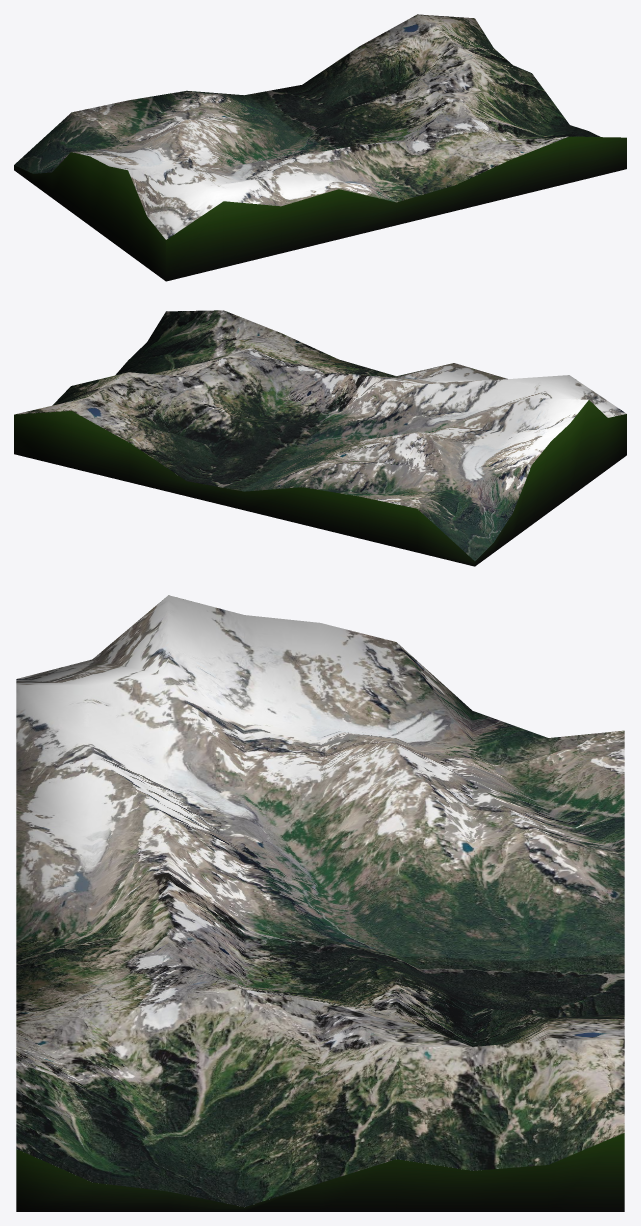
The model's file is relevo.glb.
3 renders of one model, top to bottom at view 1: azimuth 30°, elevation 25°; view 2: azimuth 150°, elevation 25°; view 3: azimuth 270°, elevation 25°, orthographic. The views are drawn at different scales.
Parts seen in each view (by area): view 1: EXPORT_GOOGLE_SAT_WM; view 2: EXPORT_GOOGLE_SAT_WM; view 3: EXPORT_GOOGLE_SAT_WM.
Part boxes in pixels (box(x1,y1,x2,y2)): EXPORT_GOOGLE_SAT_WM: box(14, 14, 626, 281); EXPORT_GOOGLE_SAT_WM: box(14, 310, 626, 566); EXPORT_GOOGLE_SAT_WM: box(16, 595, 624, 1211).
Size of the model in its own units: 4.61 by 0.7972 by 2.63.
Materials: 2 (2 with a texture image).
